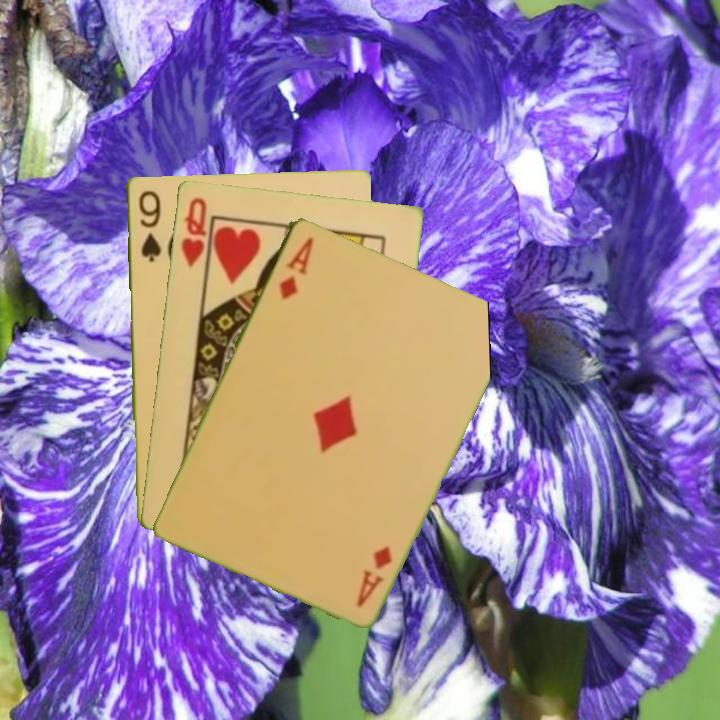9s: (135, 187, 163, 265)
Ad: (352, 542, 395, 609), (275, 233, 316, 302)
Qh: (177, 193, 209, 270)
